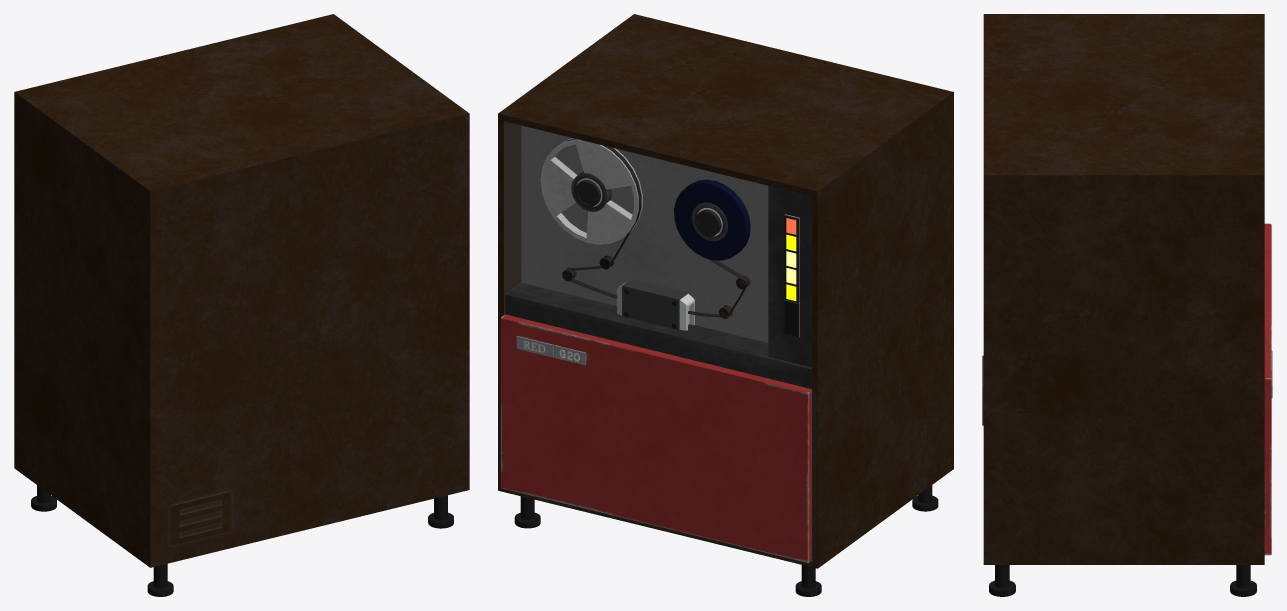
The model's file is Server4.fbx.
3 views of the same model, side by side, from view 1: azimuth 30°, elevation 25°; view 2: azimuth 150°, elevation 25°; view 3: azimuth 270°, elevation 25° (orthographic). The views are drawn at different scales.
Parts seen in each view (by area): view 1: defaultMaterial; view 2: defaultMaterial; view 3: defaultMaterial.
Boxes of the visible parts, x1,y1,x2,y2 form: defaultMaterial: (14,14,469,596); defaultMaterial: (498,14,953,596); defaultMaterial: (982,14,1272,596).
Bounding box in the file's own units: 2001 × 2465 × 1522.
